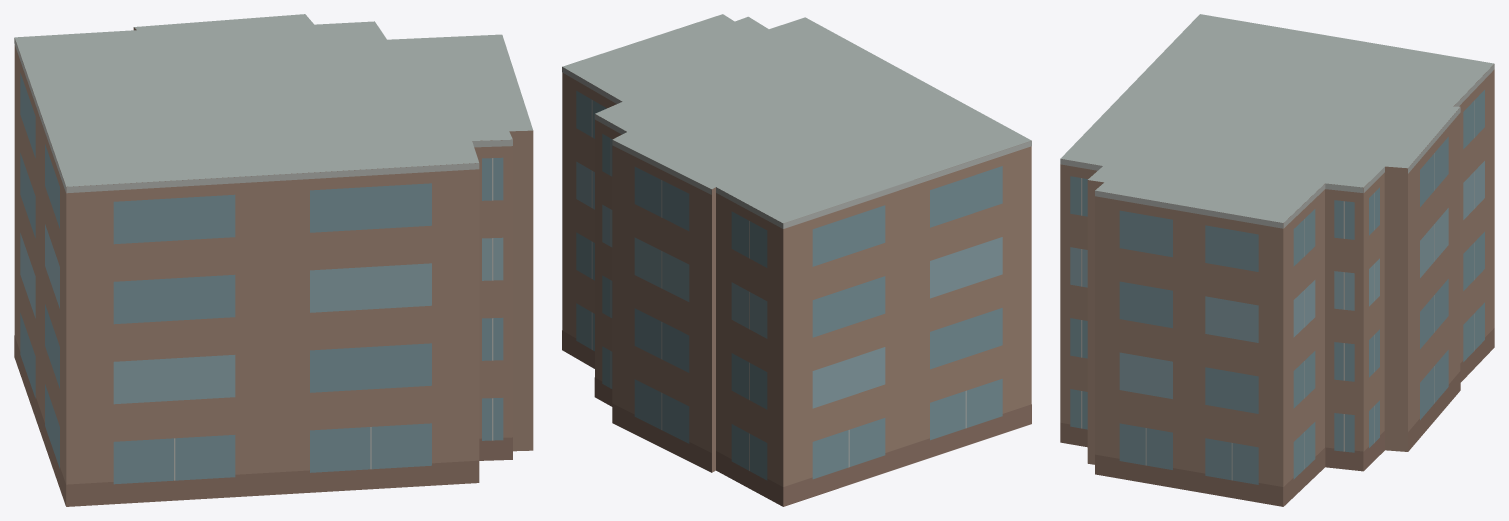
File: survey-upis-32668695.glb
The picture shows the model from 3 angles, left to right: view 1: azimuth 30°, elevation 25°; view 2: azimuth 150°, elevation 25°; view 3: azimuth 270°, elevation 25°; orthographic projection. The views are drawn at different scales.
Visible parts, largest first — view 1: survey-upis-32668695.tmp; view 2: survey-upis-32668695.tmp; view 3: survey-upis-32668695.tmp.
Boxes of the visible parts, x1,y1,x2,y2 form: survey-upis-32668695.tmp: (14,14,533,506); survey-upis-32668695.tmp: (562,14,1031,506); survey-upis-32668695.tmp: (1060,14,1494,506).
Size of the model in its own units: 19.28 by 12.2 by 16.92.
